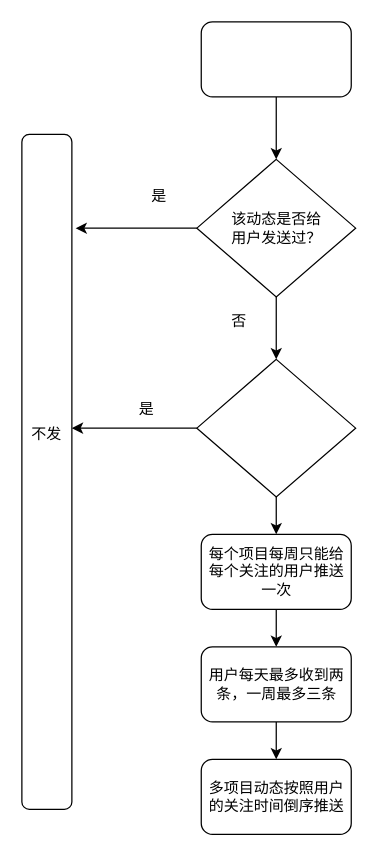
Image size: 378x856. Some labels were removed from this diagram. Here are the shapes that lost their labels. From the top down, the box of each, then its label:
(200, 21, 351, 97): 楼盘动态编辑发布
(196, 358, 356, 497): 该动态是否创建时间>15天
